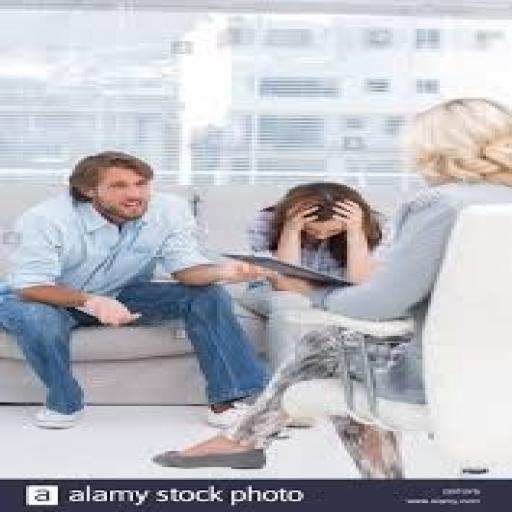sitting: (151, 95, 509, 469), (0, 149, 272, 429)
